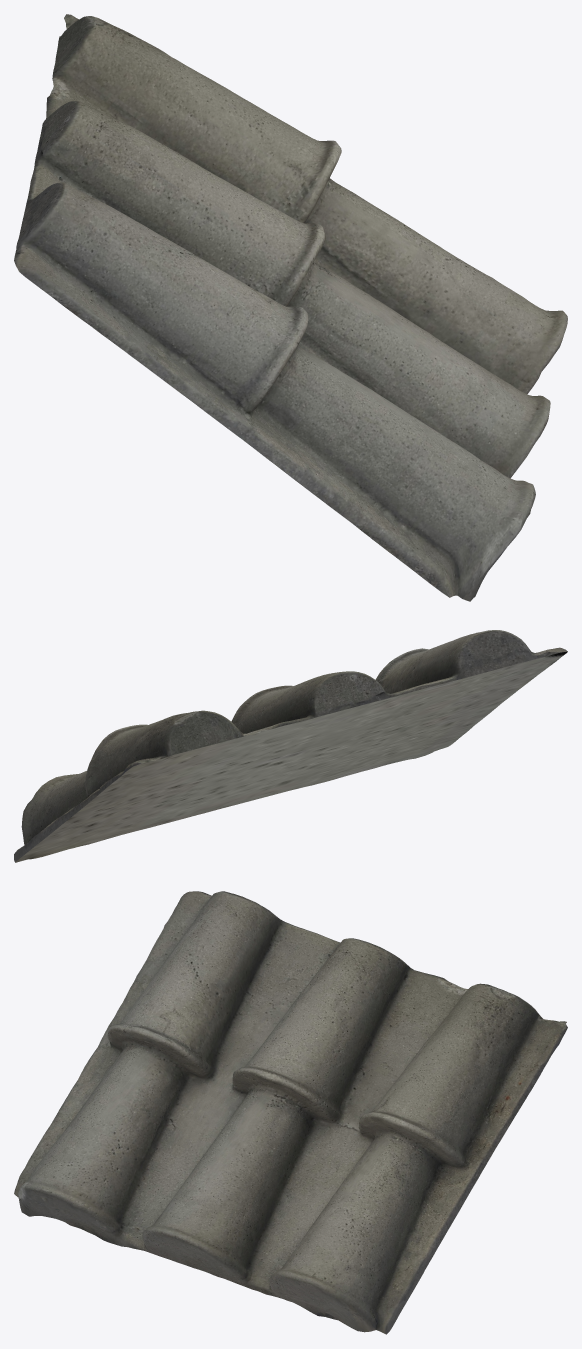
The model's file is Retopo_3DModel_mesh.004.glb.
3 renders of one model, top to bottom at view 1: azimuth 30°, elevation 25°; view 2: azimuth 150°, elevation 25°; view 3: azimuth 270°, elevation 25°, orthographic. The views are drawn at different scales.
Parts seen in each view (by area): view 1: Retopo_3DModel_mesh.004; view 2: Retopo_3DModel_mesh.004; view 3: Retopo_3DModel_mesh.004.
Part boxes in pixels (x1,y1,x2,y2): Retopo_3DModel_mesh.004: (14, 14, 567, 601); Retopo_3DModel_mesh.004: (14, 630, 567, 862); Retopo_3DModel_mesh.004: (14, 891, 567, 1334).
Size of the model in its own units: 4.86 by 2.74 by 5.32.
1 material, 1 textured.
